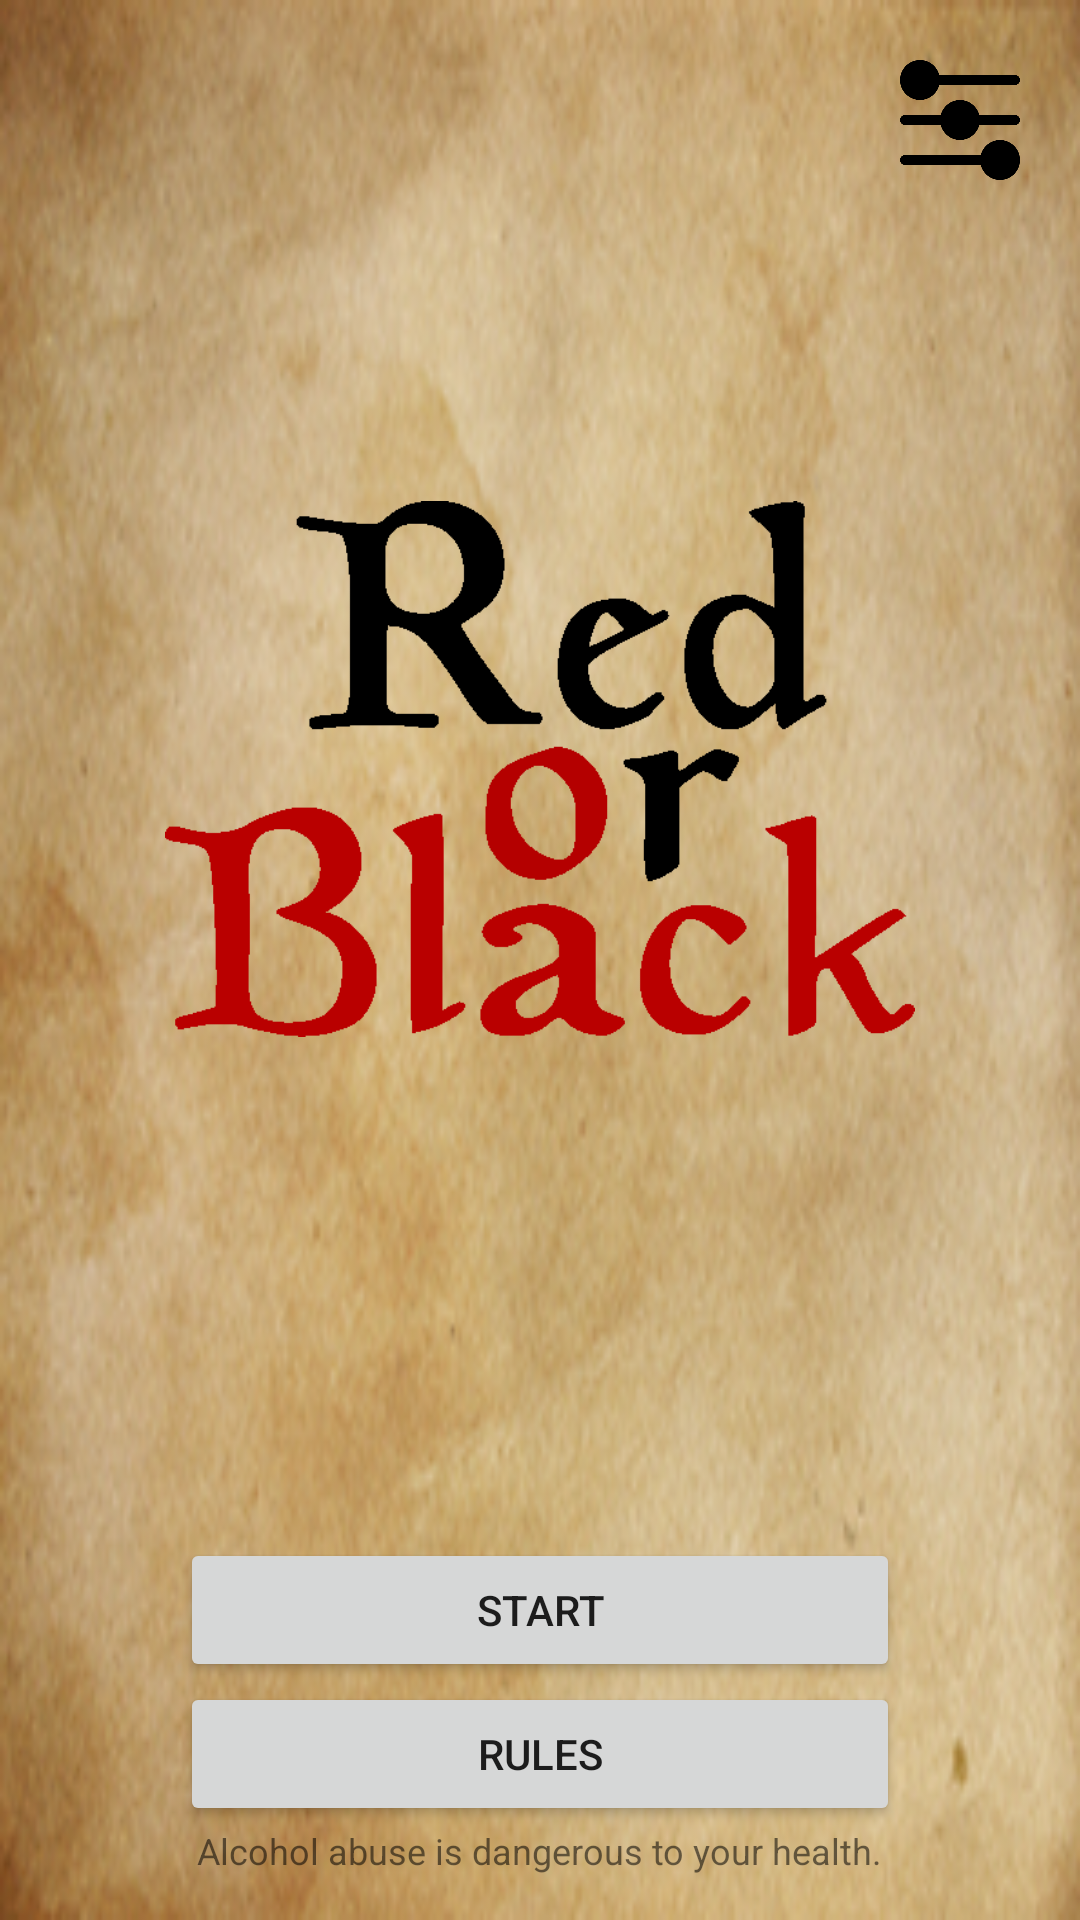

Icons on this 1080w x 1920h Android screen, each with the point to tap as [x,y]:
settings: [960,120]
